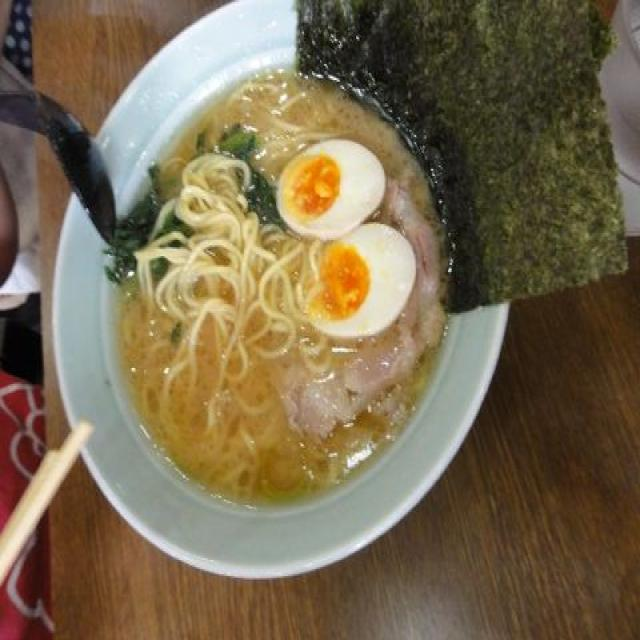面条主食: (49, 0, 629, 581)
